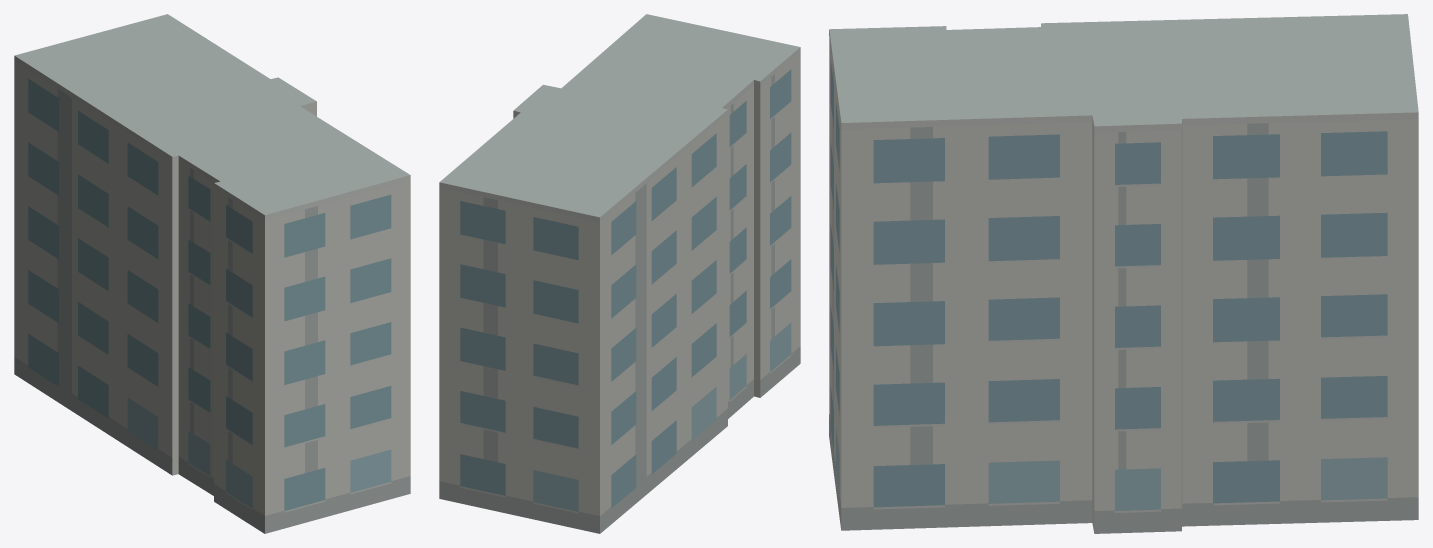
The model's file is survey-upis-32742295.glb.
3 renders of one model, left to right at view 1: azimuth 30°, elevation 25°; view 2: azimuth 150°, elevation 25°; view 3: azimuth 270°, elevation 25°, orthographic. The views are drawn at different scales.
Visible parts, largest first — view 1: survey-upis-32742295.tmp; view 2: survey-upis-32742295.tmp; view 3: survey-upis-32742295.tmp.
Boxes of the visible parts, x1,y1,x2,y2 form: survey-upis-32742295.tmp: (14,14,410,533); survey-upis-32742295.tmp: (439,14,800,533); survey-upis-32742295.tmp: (829,14,1418,533).
Size of the model in its own units: 8.87 by 15 by 19.67.
